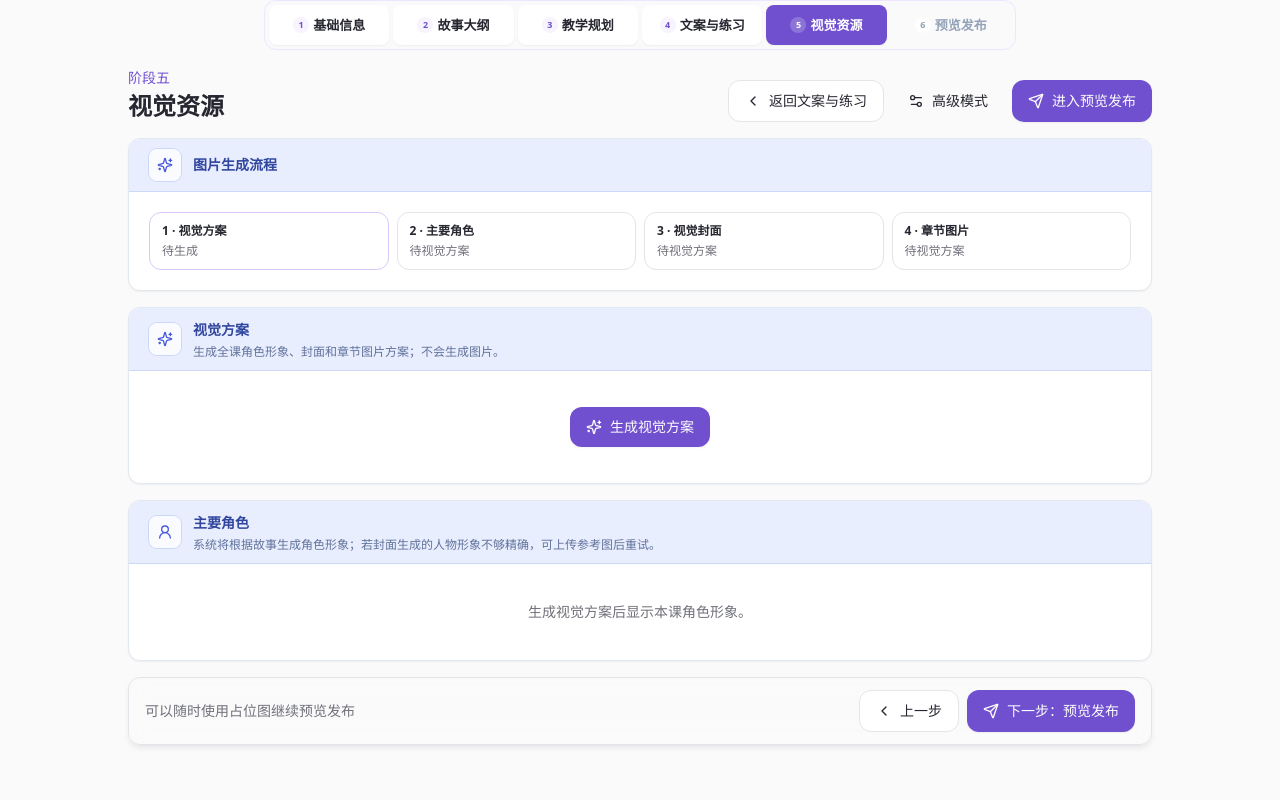
Step 5 视觉资源工作区 › 生成视觉方案时使用紧凑工作台和连续活动轨道
Click the button "生成视觉方案" at (640, 427), box [570,407,710,447]
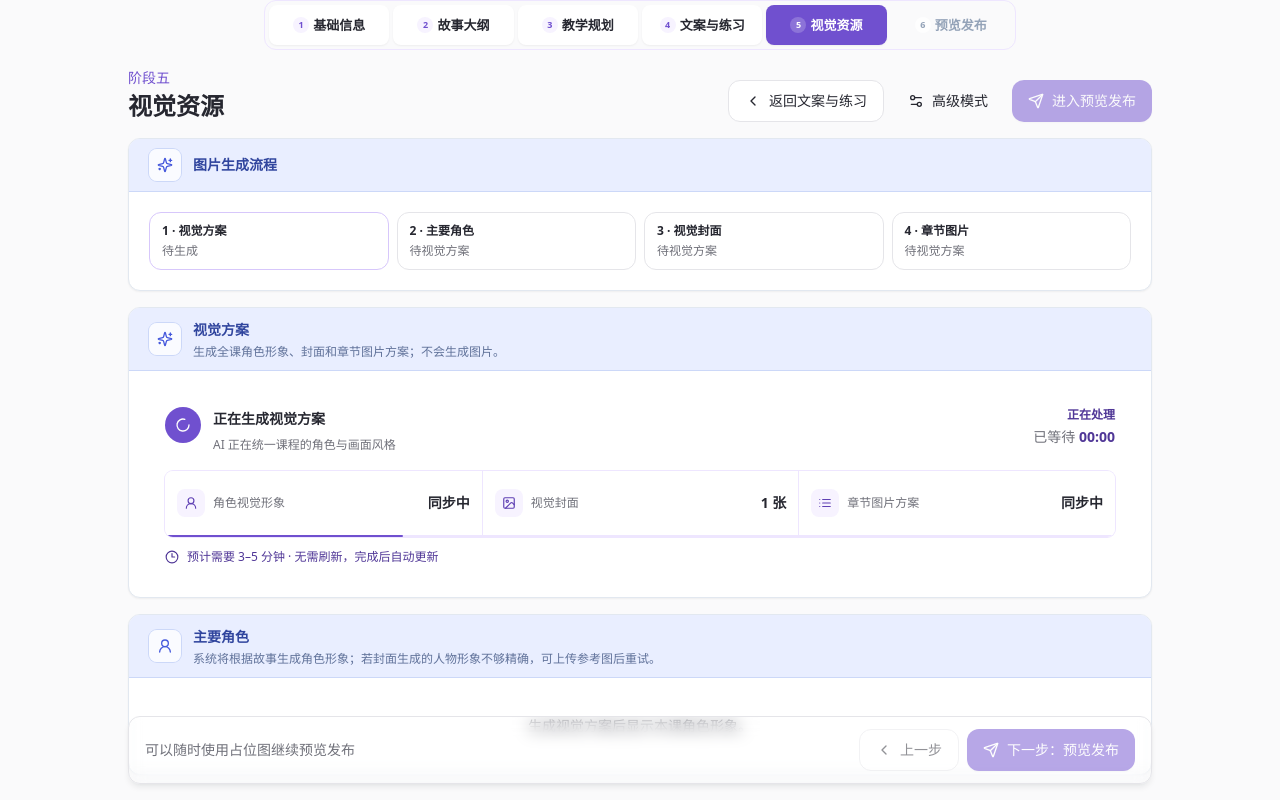
Expected: the heading "正在生成视觉方案" is shown, [213,409,325,428]
Expected: the message shows "正在处理", [1067,406,1115,423]
Expected: the message shows "AI 正在统一课程的角色与画面风格", [213,436,396,453]
